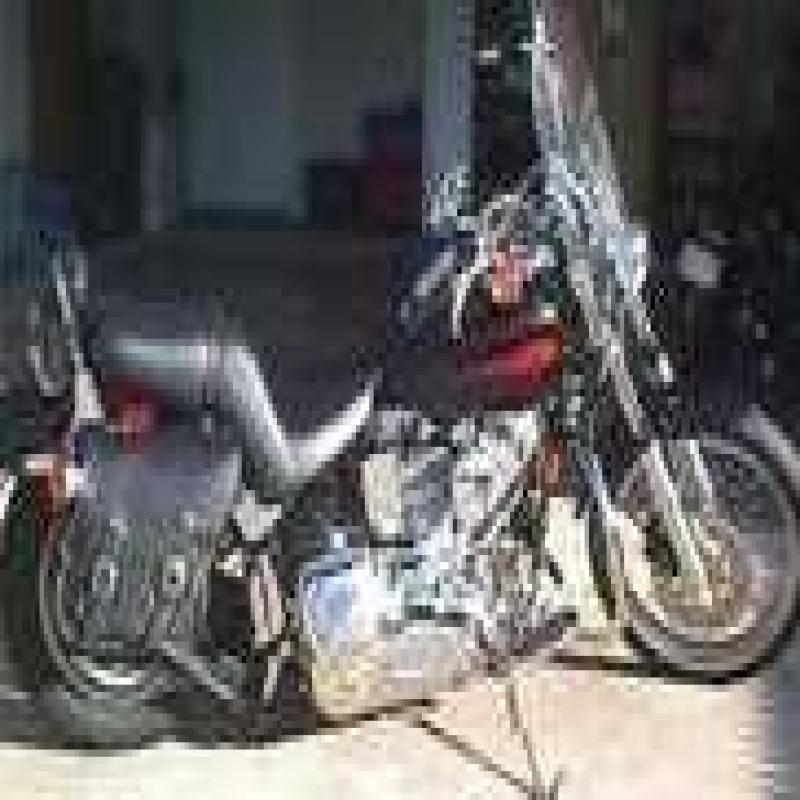bike: (33, 100, 768, 690)
